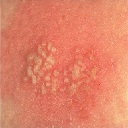Herpes Virus: (25, 40, 88, 90)
